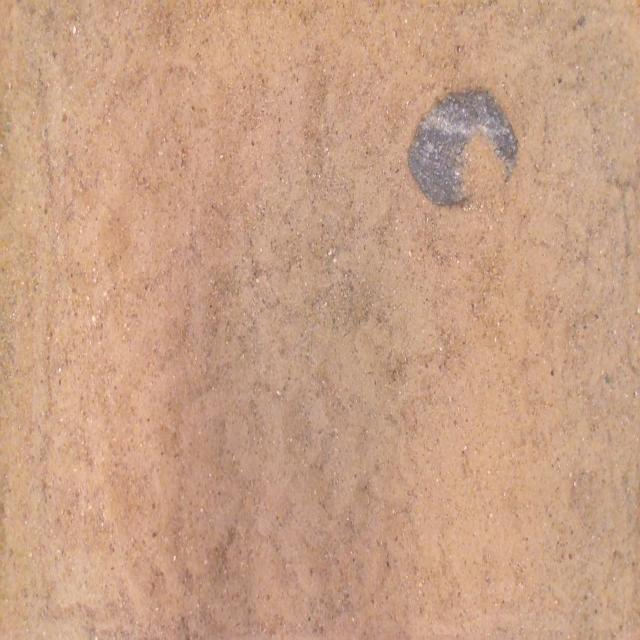rock: (408, 92, 517, 204)
